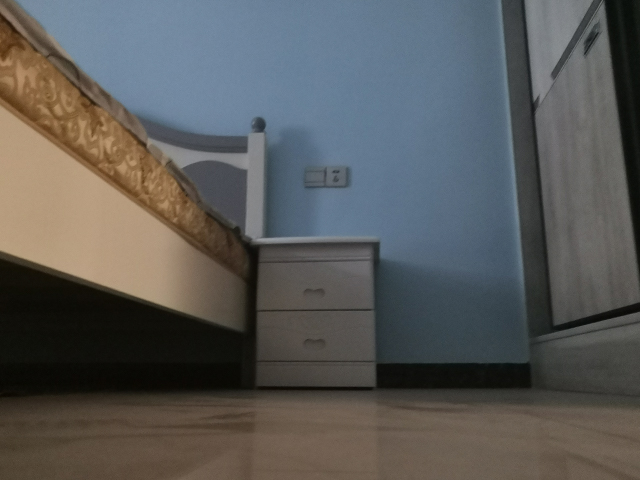bed: (1, 1, 269, 387)
cabinet: (495, 1, 640, 396), (249, 234, 382, 391)
